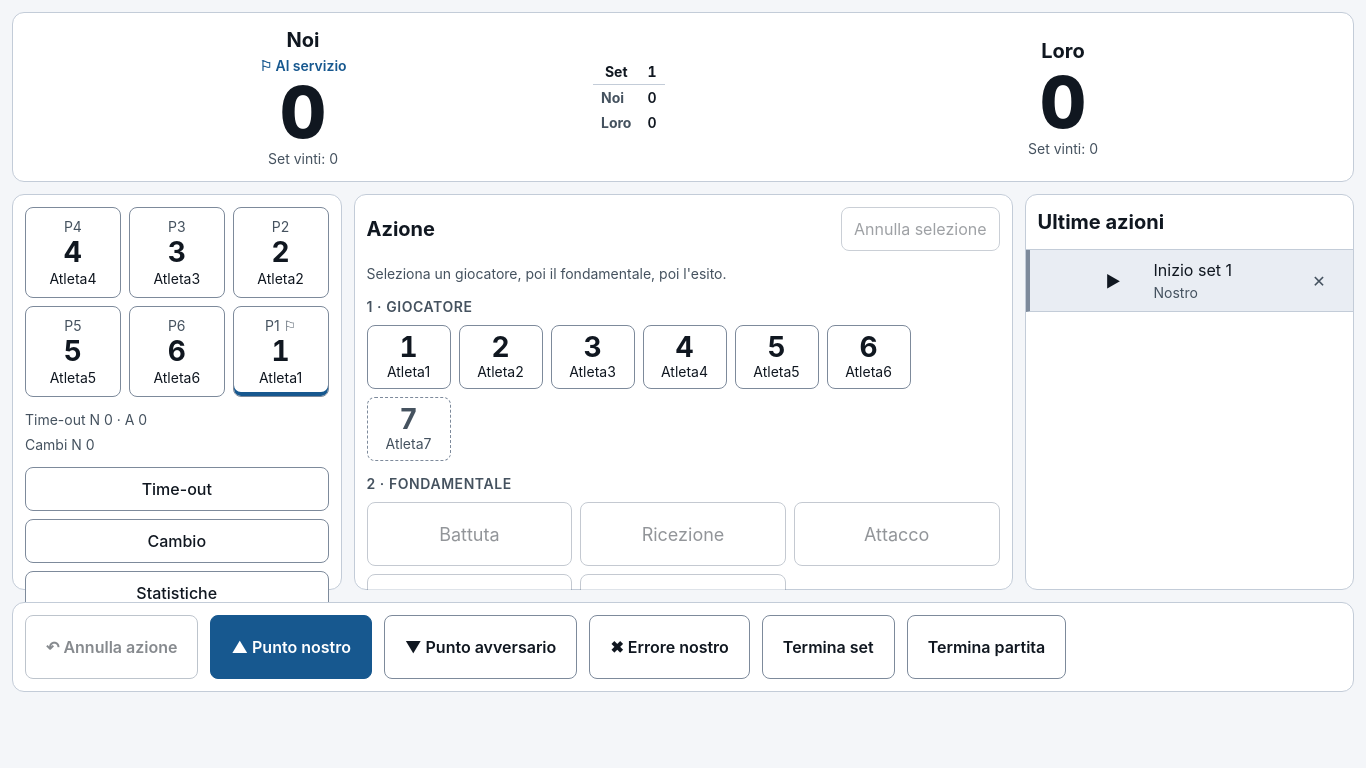
LiveScoutPage › records a plain point for us without choosing a player
Click the button "▲ Punto nostro" at [291, 647], box [210, 615, 372, 679]
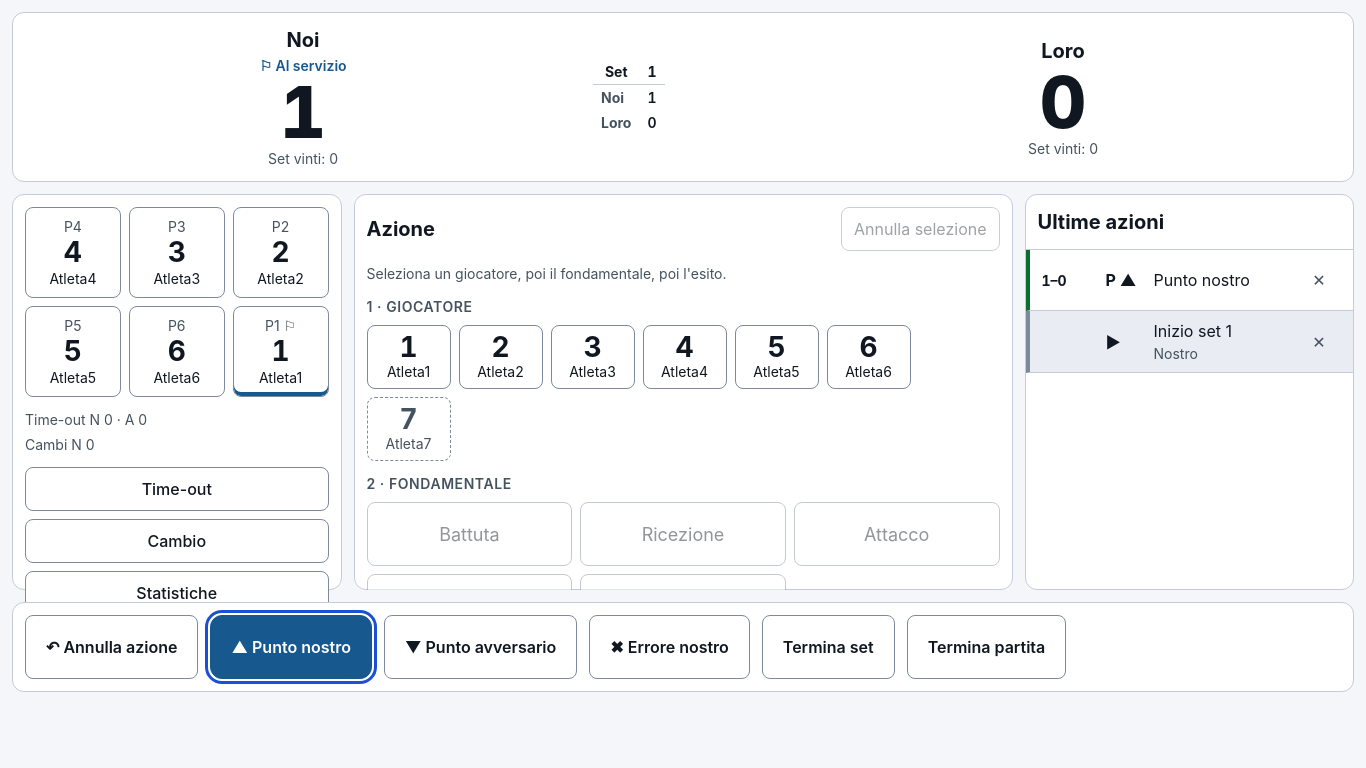
Check: the text named "Noi: 1" is shown, box [280, 76, 326, 148]
